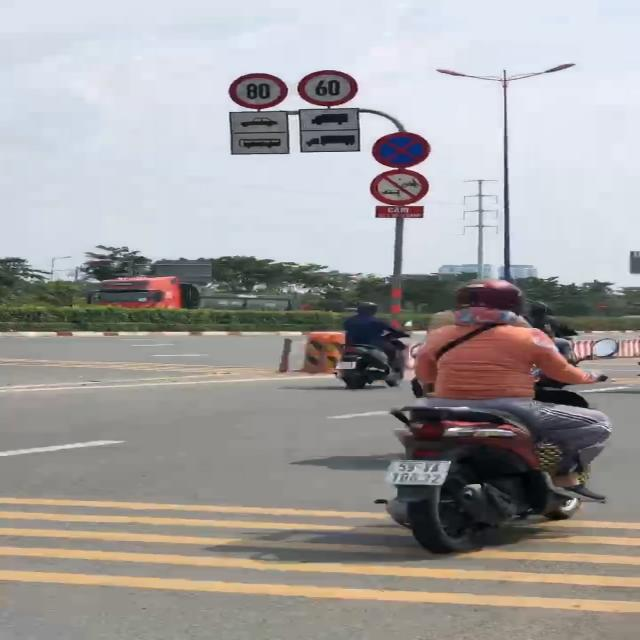Bien bao cam dung xe va do xe: (370, 129, 435, 169)
Bien bao toc do toi da cho phep: (224, 71, 292, 113), (295, 70, 370, 106)
